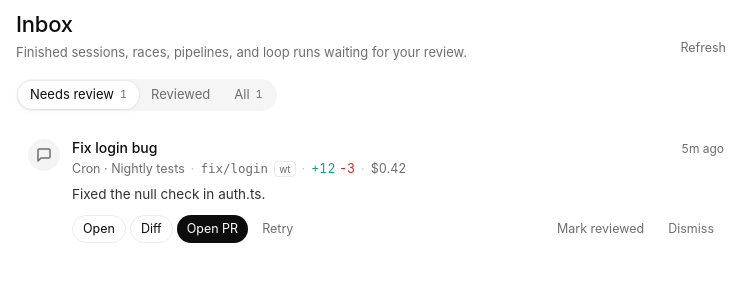
Scenario: InboxPage › opens a PR through the API and surfaces server errors inline
Expected: the button "Fix login bug" is shown, x1=72 y1=136 x2=157 y2=158
Click the button "Open PR".
click(212, 229)  # box x1=177 y1=215 x2=248 y2=243
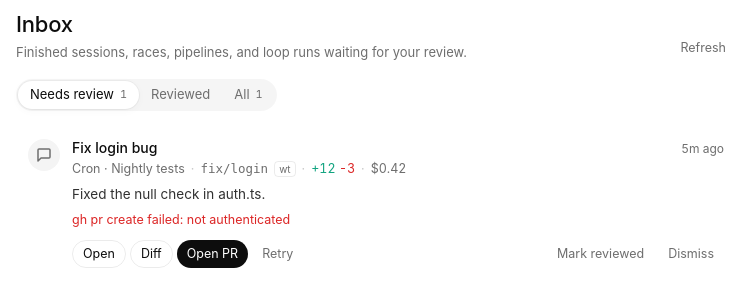
Now the text "gh pr create failed: not authenticated" is shown, box x1=72 y1=212 x2=290 y2=227
